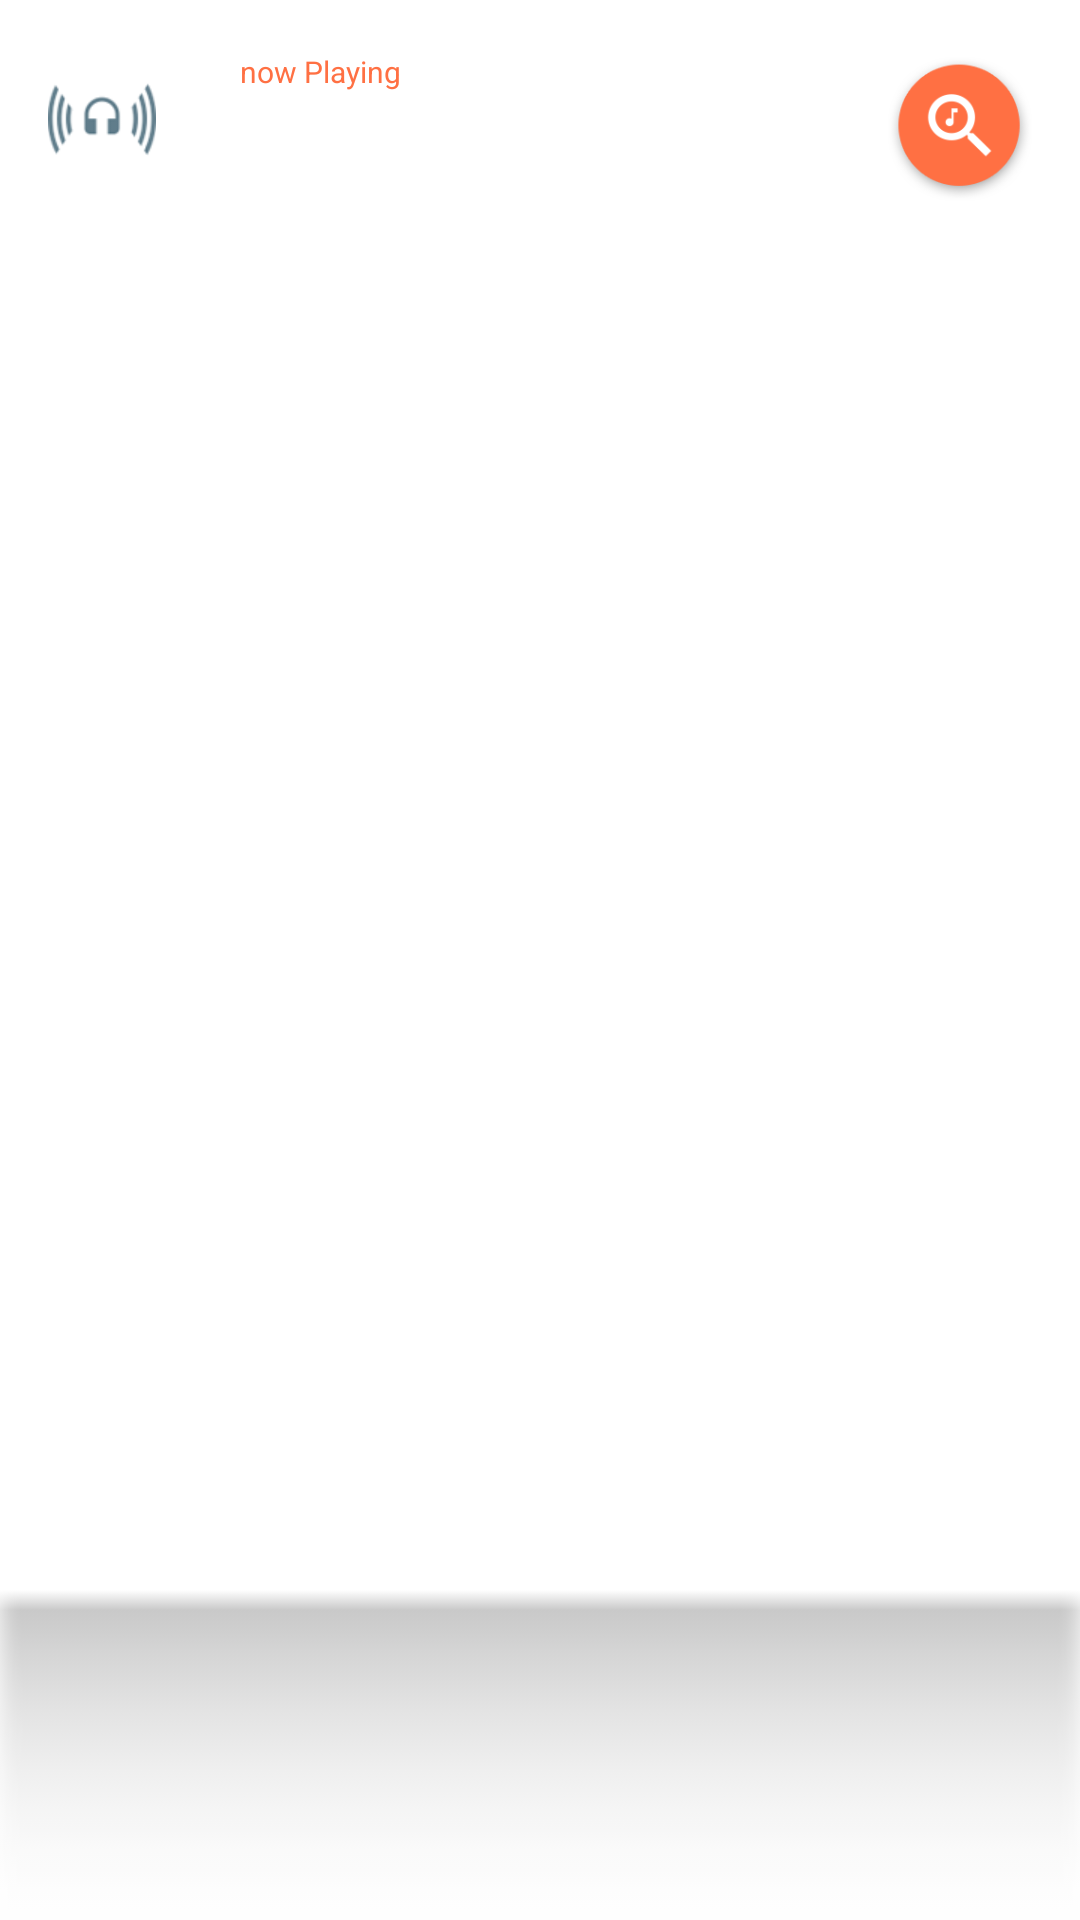

Screen size 1080 x 1920. Icon name, then its box in pixels as (x1, y1, x2, y2):
select music: (897, 64, 1023, 192)
